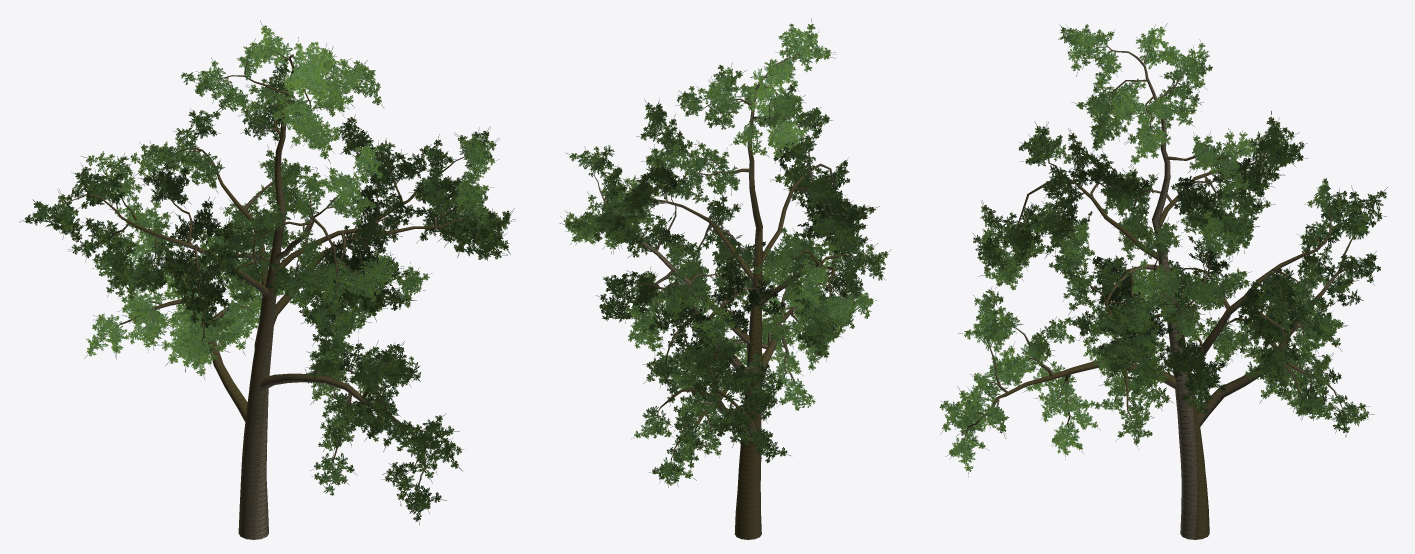
The model's file is ash.glb.
The picture shows the model from 3 angles, left to right: view 1: azimuth 30°, elevation 25°; view 2: azimuth 150°, elevation 25°; view 3: azimuth 270°, elevation 25°; orthographic projection. The views are drawn at different scales.
Visible parts, largest first — view 1: leaves, bark; view 2: leaves, bark; view 3: leaves, bark.
Boxes of the visible parts, <box> form: leaves: <box>19,20,515,525</box>; bark: <box>47,48,485,539</box>; leaves: <box>559,18,891,487</box>; bark: <box>589,34,871,539</box>; leaves: <box>939,23,1387,476</box>; bark: <box>958,39,1366,539</box>.
Size of the model in its own units: 11.9 by 14 by 11.6.
2 materials, 2 textured.
